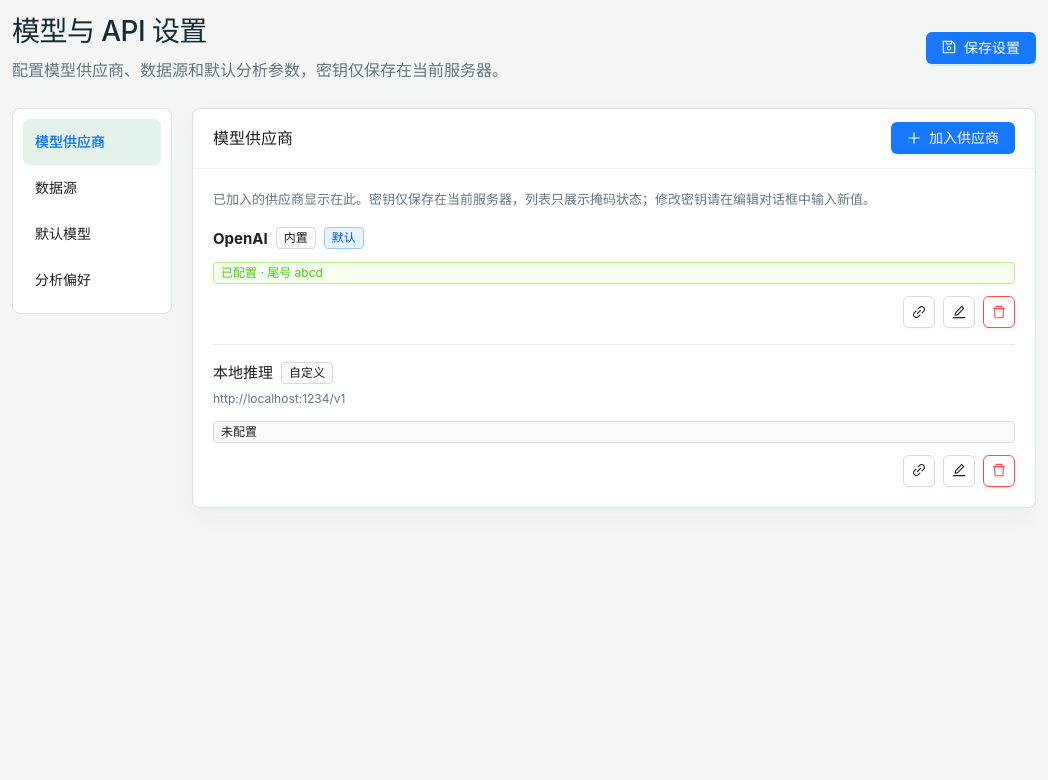
Test: tests a saved supplier only after an explicit action
This screenshot has width=1048, height=780.
Step 1. Click the button named "测试 OpenAI 连接" → coordinates (919, 312), box [903, 296, 935, 328]
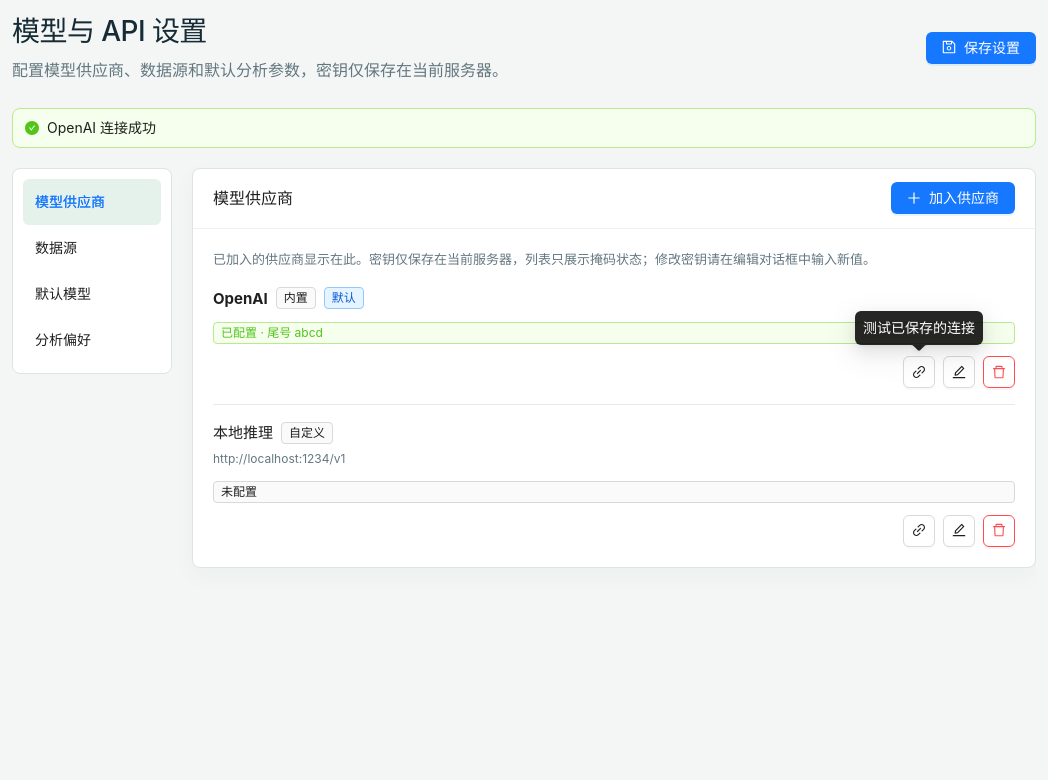
expect the text "OpenAI 连接成功" is shown: met, box [47, 119, 156, 136]
